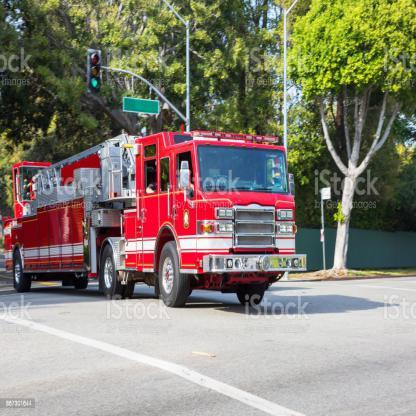fire-truck: (13, 69, 308, 376)
